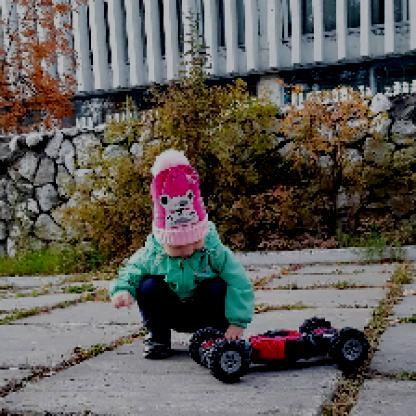child: (108, 149, 257, 359)
